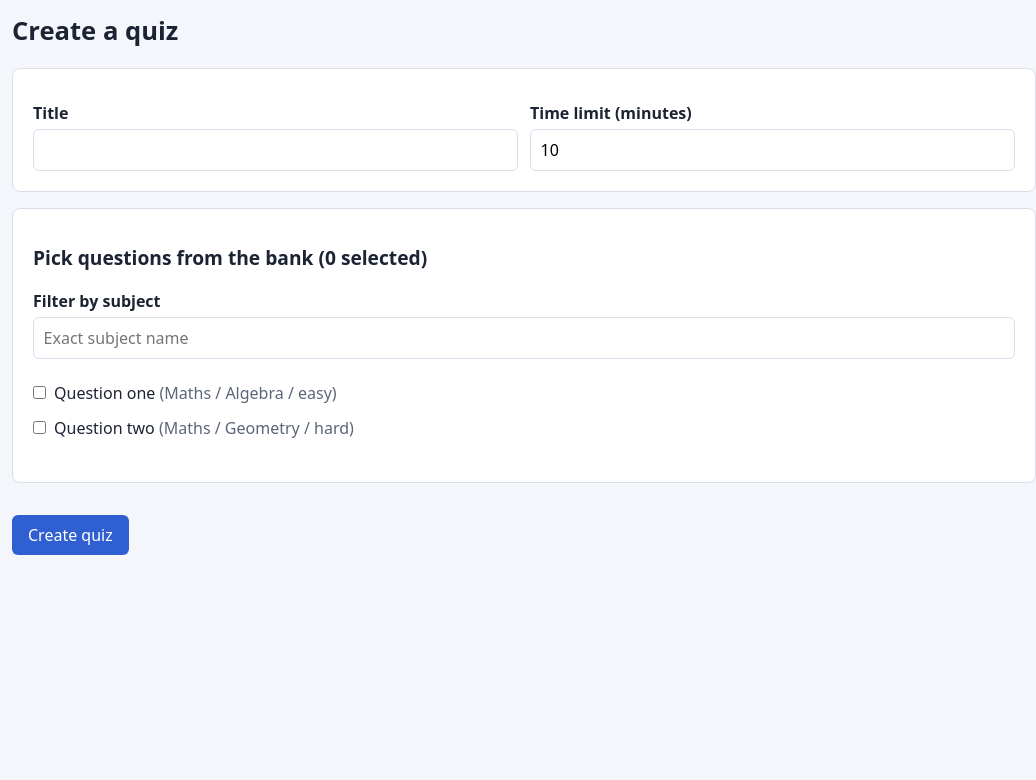
TC-Quiz-01 create a quiz from the bank (CSMQP-F-030/031) › time limit 1.5 is rejected client-side
This screenshot has width=1036, height=780.
Expected: the text "Question one" is shown, [54,382,155,404]
Type "T" into the field labelled "Title". click: (276, 150)
box: [33,128,518,170]
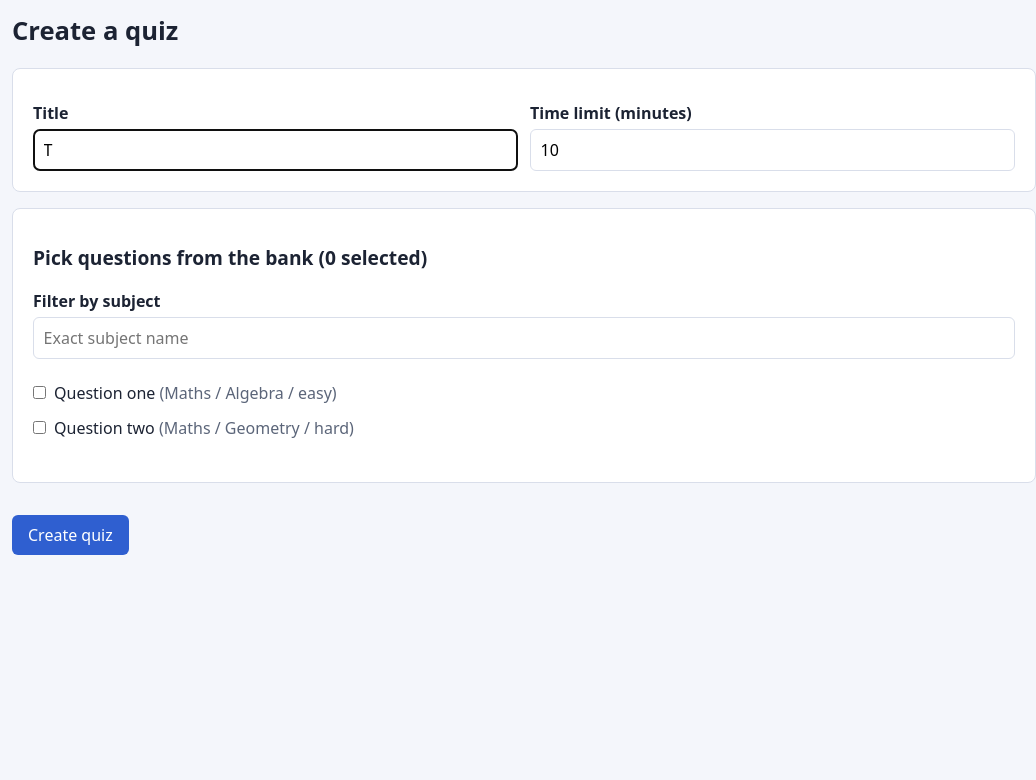
Replace the text in the number field labelled "Time limit (minutes)" with "1.5". click: (772, 150)
box: [530,128,1015,170]
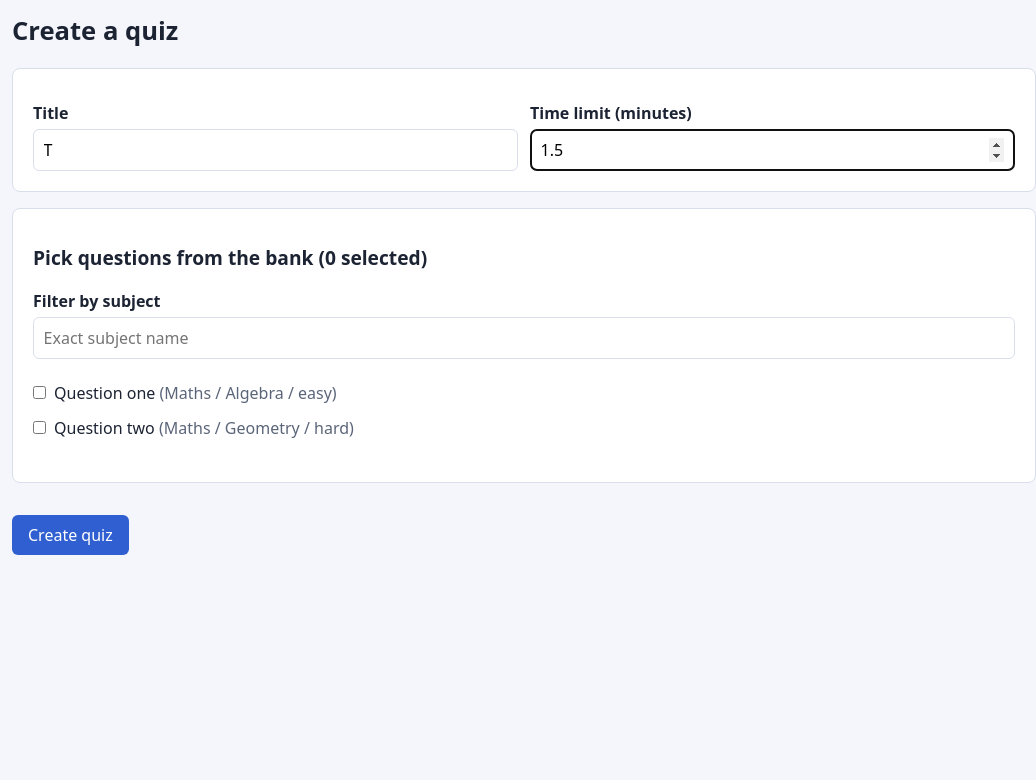
Click the checkbox labelled "Question one (Maths / Algebra / easy)". click: click(40, 393)
box: [33,386,46,399]
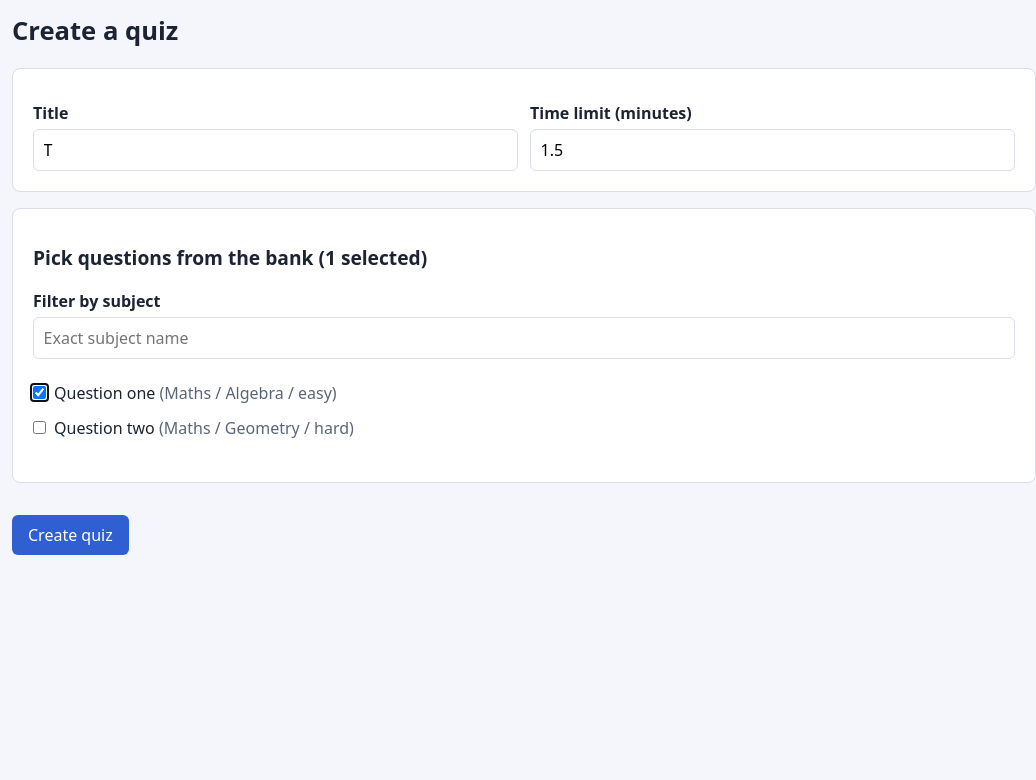
Click the button "Create quiz". click: click(70, 534)
box: [12,514,129,554]
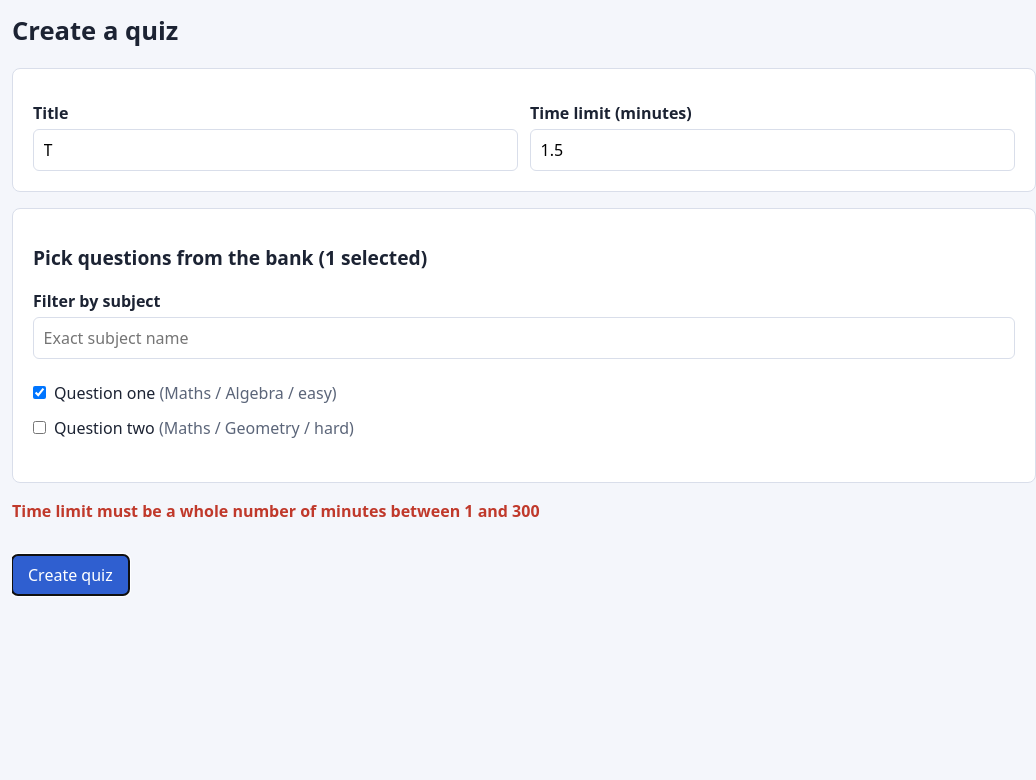
Now the message shows "between 1 and 300", box [12,500,540,522]
